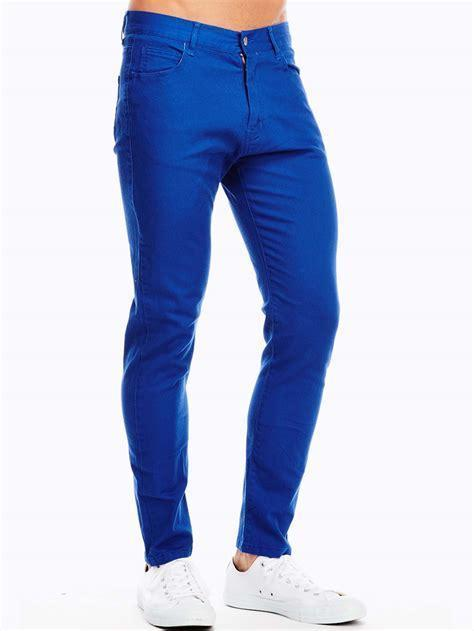pants: (112, 9, 338, 569)
